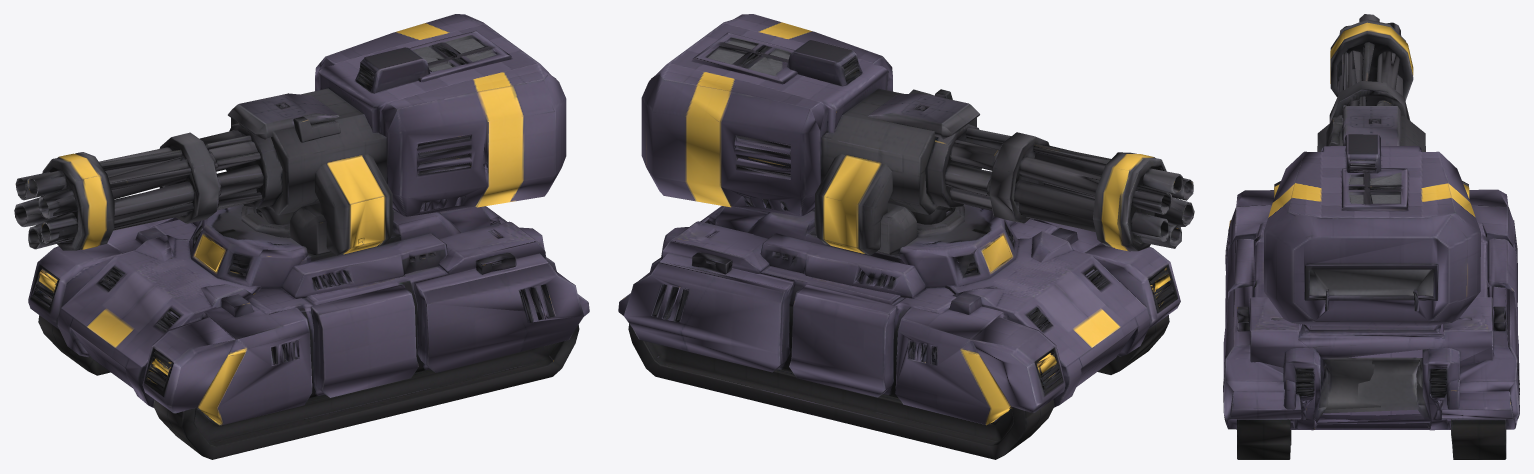
The model's file is tank_assembled.glb.
The picture shows the model from 3 angles, left to right: view 1: azimuth 30°, elevation 25°; view 2: azimuth 150°, elevation 25°; view 3: azimuth 270°, elevation 25°; orthographic projection. The views are drawn at different scales.
Visible parts, largest first — view 1: Body, Turret_Mesh, Gun_Mesh; view 2: Body, Turret_Mesh, Gun_Mesh; view 3: Body, Turret_Mesh, Gun_Mesh.
Boxes of the visible parts, x1,y1,x2,y2 form: Body: [28, 204, 589, 459]; Turret_Mesh: [226, 14, 566, 255]; Gun_Mesh: [14, 130, 263, 250]; Body: [618, 204, 1180, 459]; Turret_Mesh: [641, 14, 981, 255]; Gun_Mesh: [945, 127, 1194, 251]; Body: [1223, 189, 1519, 459]; Turret_Mesh: [1264, 106, 1480, 325]; Gun_Mesh: [1329, 14, 1413, 122].
Size of the model in its own units: 0.9565 by 0.5352 by 0.5254.
1 material, 1 textured.
